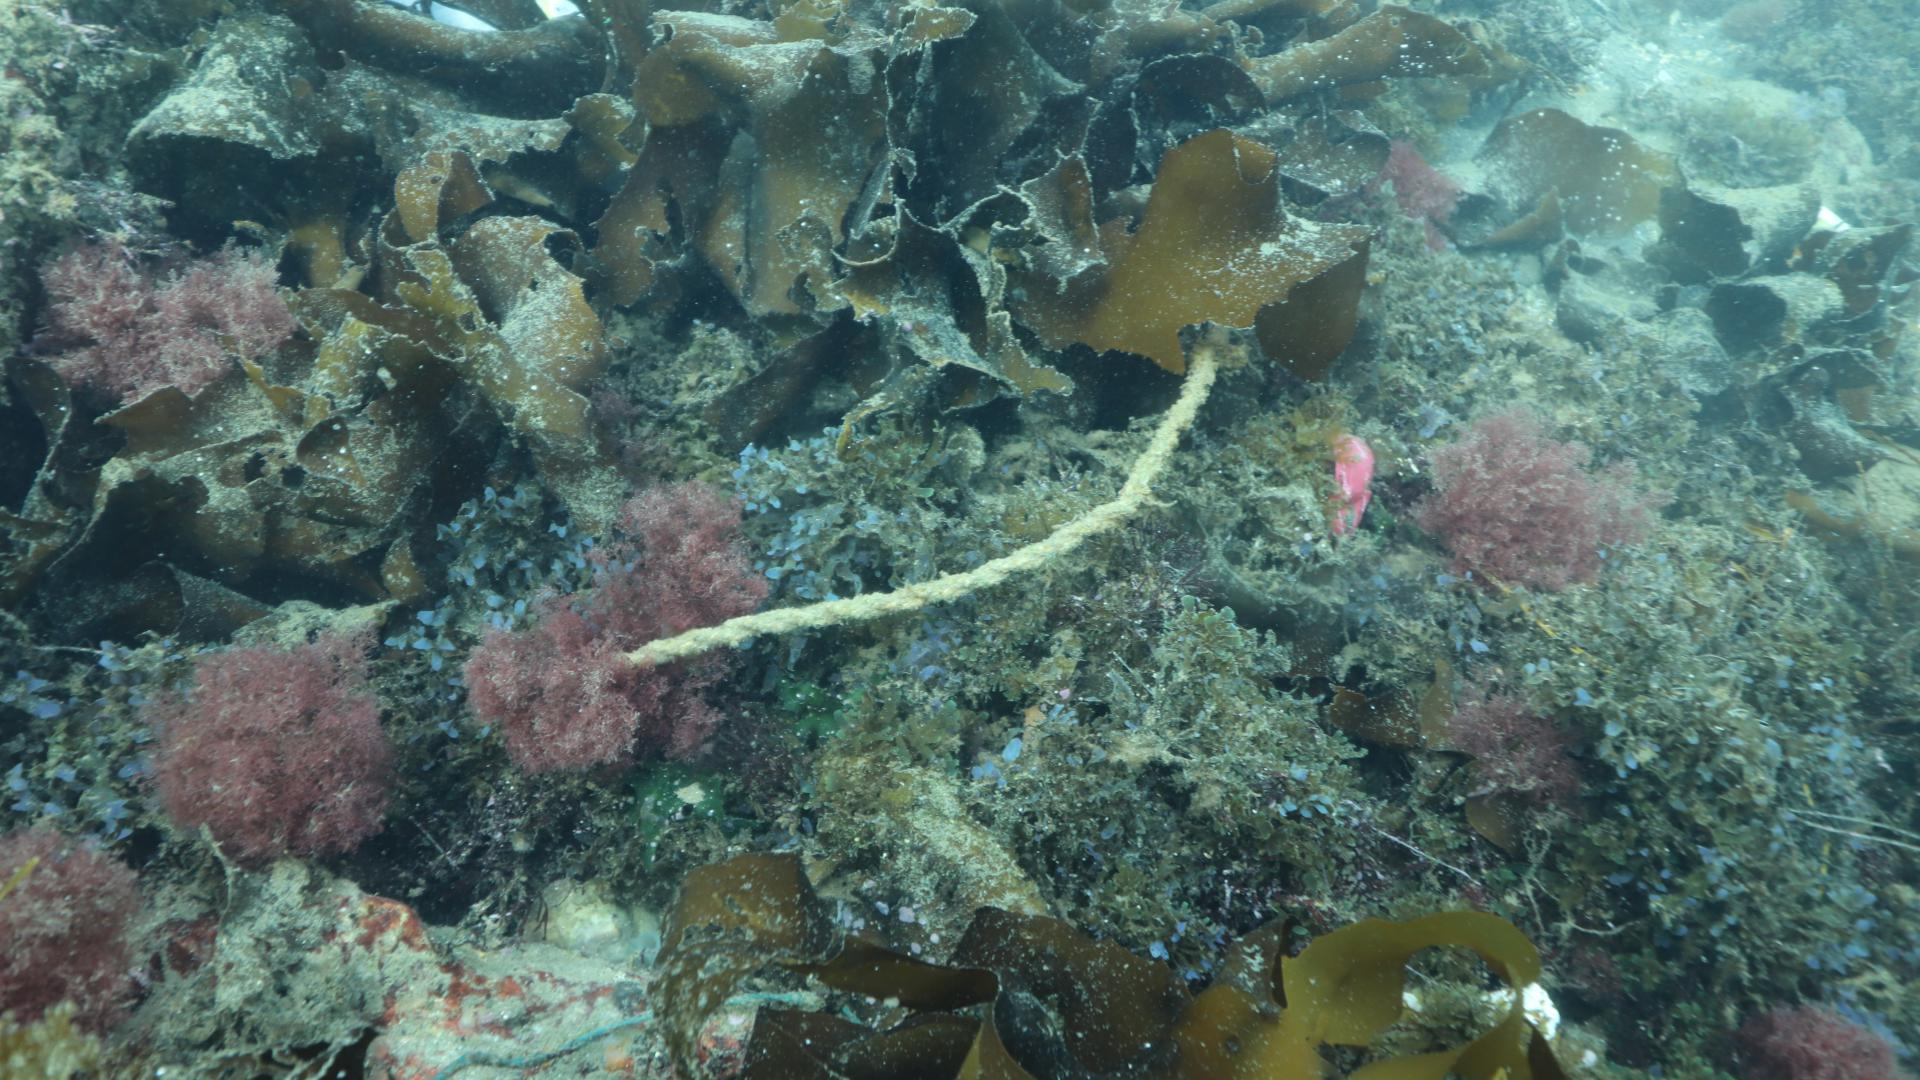rope: (630, 327, 1228, 670)
